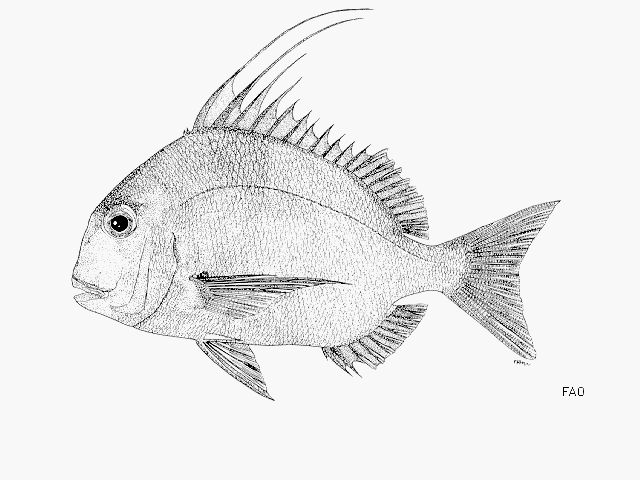fish: (71, 9, 557, 402)
